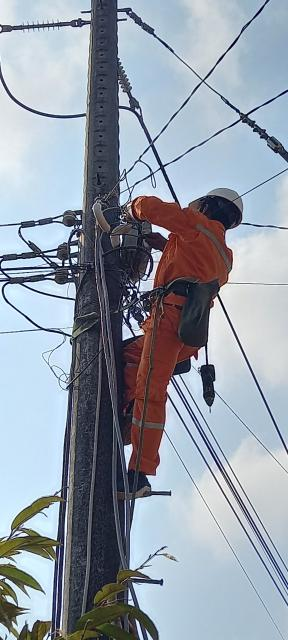gloves: (118, 191, 157, 230), (143, 231, 191, 262)
helmet: (181, 178, 261, 231)
shoes: (97, 457, 167, 507), (105, 388, 160, 442)
